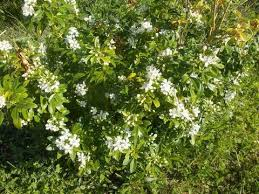flower: (126, 19, 155, 47), (147, 147, 169, 169), (198, 51, 222, 69), (112, 135, 131, 152), (172, 101, 188, 119), (160, 79, 176, 96), (91, 108, 109, 123), (65, 134, 81, 150), (56, 133, 72, 147), (188, 122, 202, 138), (188, 8, 203, 22), (74, 82, 88, 97), (76, 151, 89, 167), (202, 97, 216, 111), (124, 112, 138, 126), (223, 89, 237, 103), (44, 119, 59, 132), (66, 37, 81, 50), (141, 79, 155, 92), (21, 4, 35, 17), (30, 55, 43, 69), (159, 46, 174, 58), (37, 40, 48, 56), (0, 39, 13, 52), (189, 105, 201, 119), (145, 64, 158, 76), (159, 28, 173, 39), (127, 35, 138, 49), (211, 77, 223, 89), (230, 76, 242, 88), (86, 15, 97, 27), (49, 80, 60, 91), (141, 20, 153, 30), (76, 99, 87, 109), (70, 4, 80, 15), (21, 68, 31, 79), (42, 83, 53, 93), (67, 26, 78, 35), (93, 35, 100, 49), (0, 96, 7, 109), (117, 74, 127, 83), (79, 56, 89, 65), (20, 118, 29, 128), (223, 36, 232, 46), (108, 92, 116, 102), (109, 38, 117, 48), (189, 71, 199, 79), (89, 107, 98, 115), (83, 15, 91, 23), (113, 22, 121, 30), (202, 44, 209, 53), (151, 132, 158, 140), (46, 144, 54, 151), (135, 93, 142, 100), (102, 60, 110, 66)
